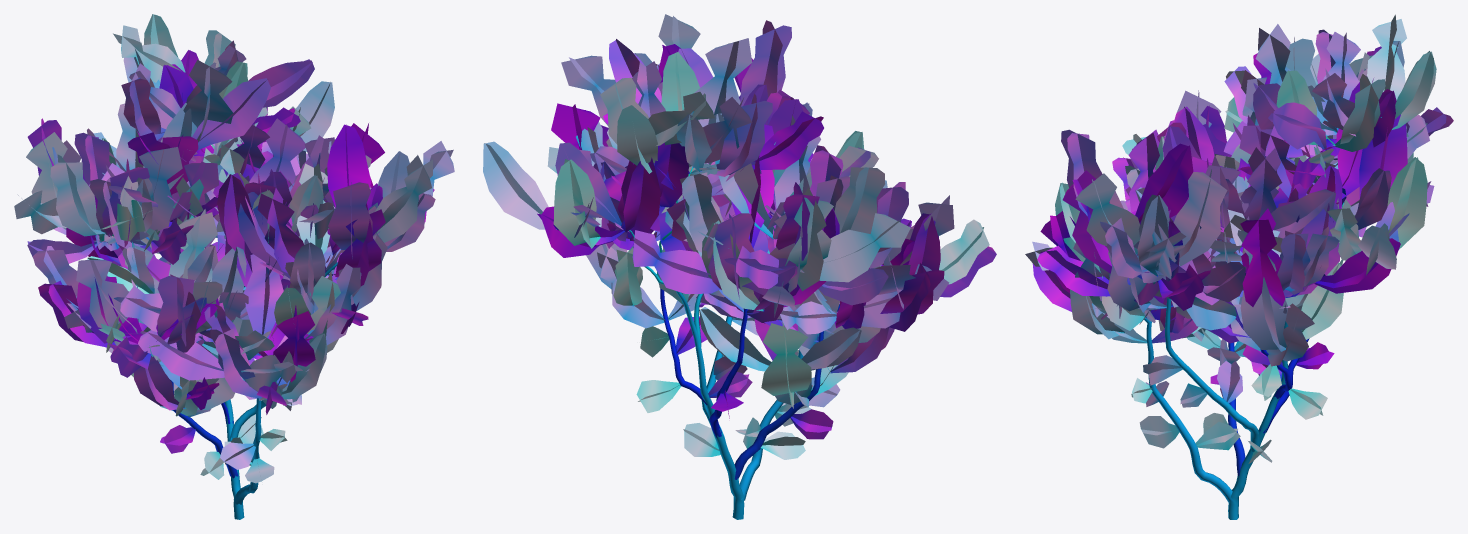
Rendered from European_Spindle_wk1ncbxja_Mid_wk1ncbxja_VarE_LOD2.fbx.
3 renders of one model, left to right at view 1: azimuth 30°, elevation 25°; view 2: azimuth 150°, elevation 25°; view 3: azimuth 270°, elevation 25°, orthographic. The views are drawn at different scales.
Parts seen in each view (by area): view 1: _jdo8_VarE_LOD3; view 2: _jdo8_VarE_LOD3; view 3: _jdo8_VarE_LOD3.
Part boxes in pixels (x1=…): _jdo8_VarE_LOD3: x1=14, y1=14, x2=454, y2=519; _jdo8_VarE_LOD3: x1=483, y1=14, x2=996, y2=519; _jdo8_VarE_LOD3: x1=1025, y1=14, x2=1453, y2=519.
Size of the model in its own units: 229 by 260 by 209.
